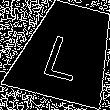L_N: (40, 23, 93, 81)
